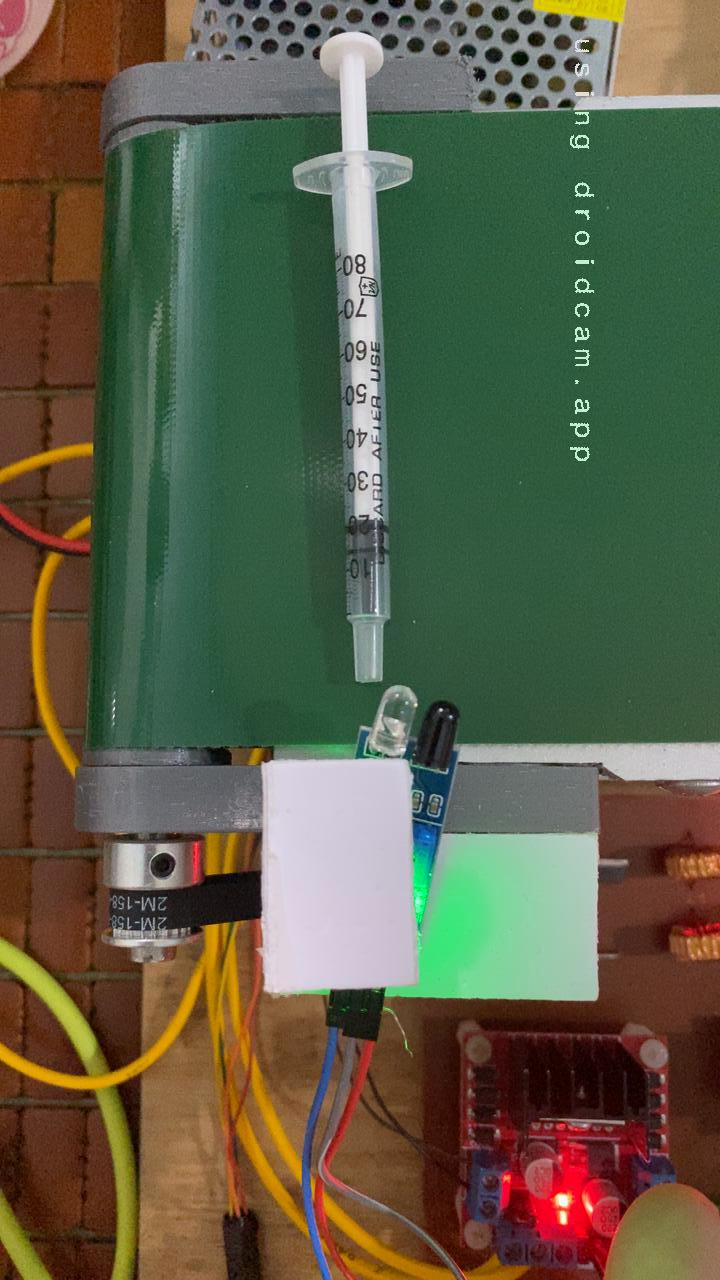syringe: (0, 111, 421, 743)
